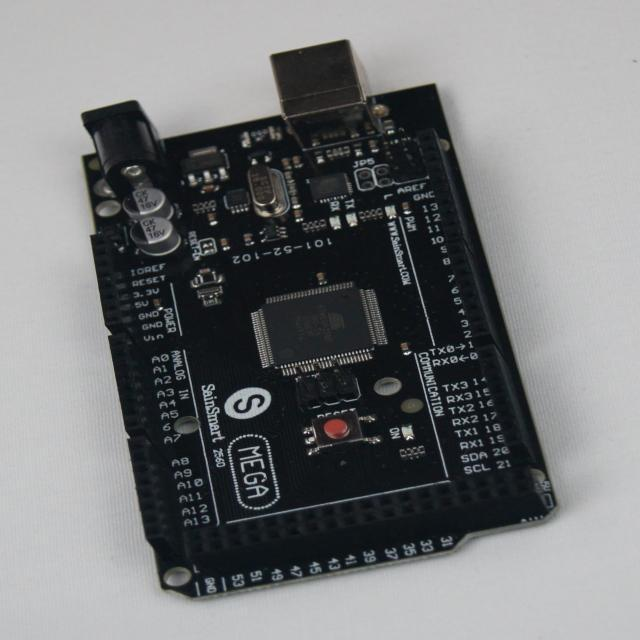Arduino Mega 2560 -Black-: (83, 42, 556, 597)
